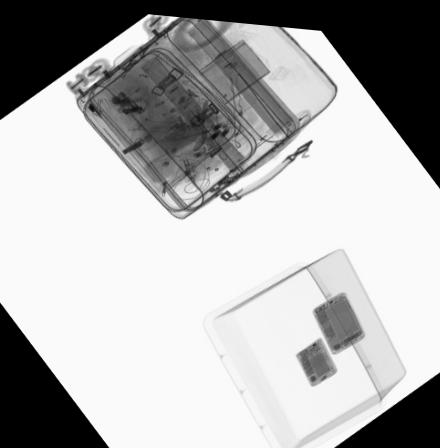Lighter: (176, 83, 203, 108)
